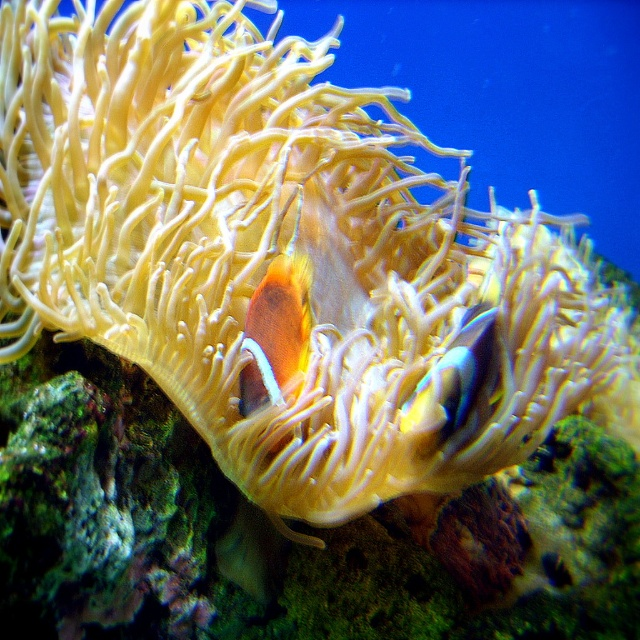Fish: (238, 255, 310, 451), (402, 303, 495, 452)
